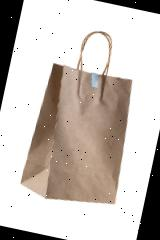paper: (19, 21, 150, 212)
